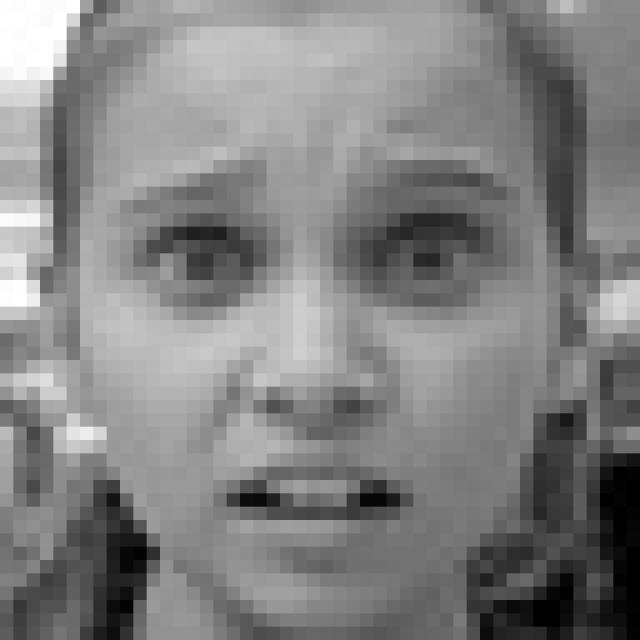fear: (114, 134, 521, 579)
